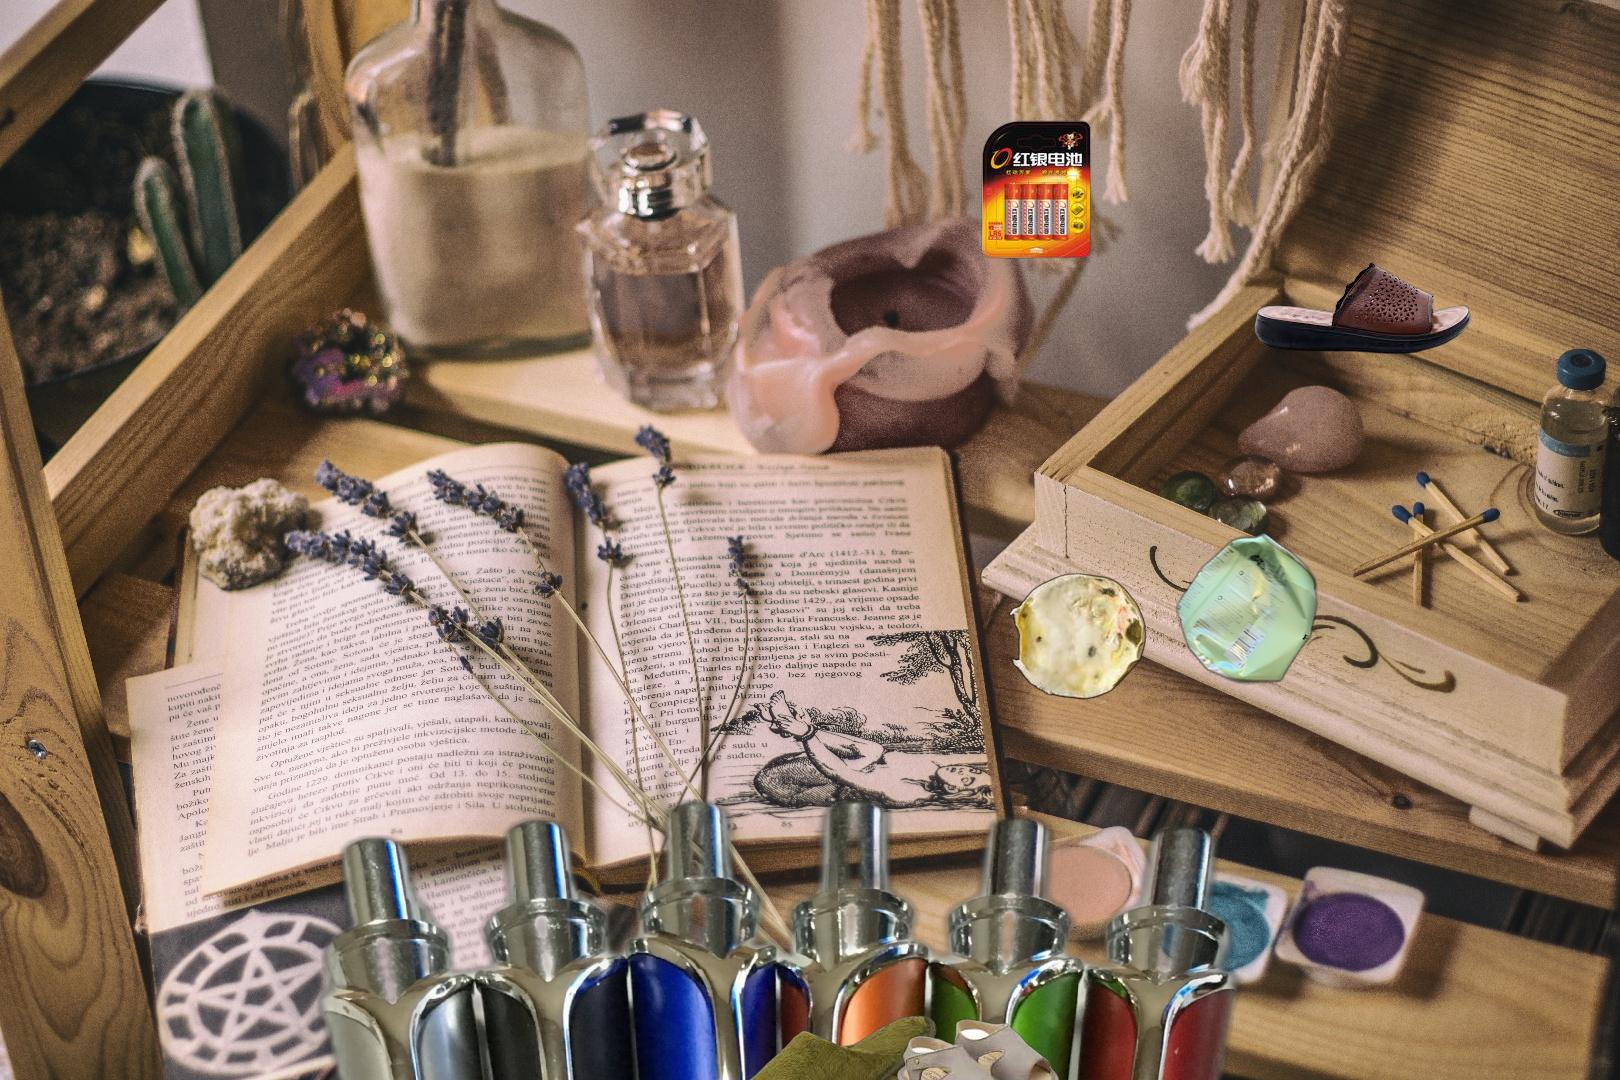battery: (979, 118, 1093, 262)
biological: (1006, 571, 1149, 702)
metal-cans: (1172, 527, 1321, 689)
penholder: (301, 787, 1256, 1080)
shoes: (1252, 260, 1473, 356), (712, 1015, 994, 1080), (894, 1016, 1062, 1080)
